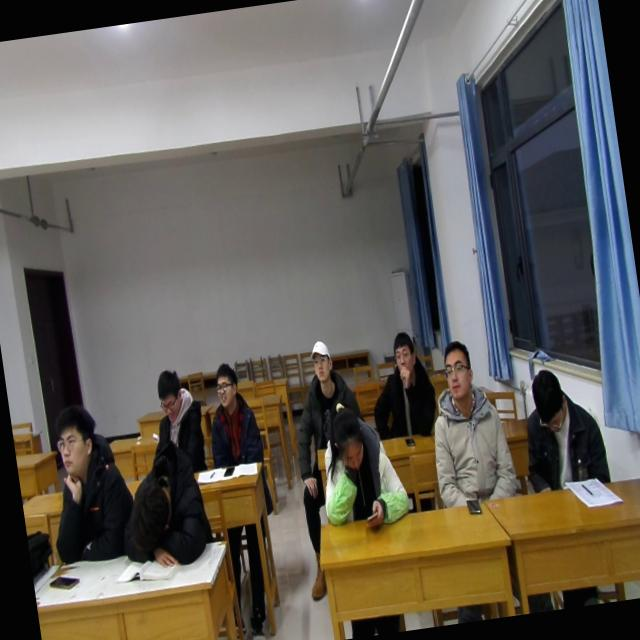bow: (107, 422, 220, 576), (310, 387, 414, 536)
down: (321, 398, 370, 480), (526, 363, 569, 435), (147, 364, 189, 424)
lookup: (48, 396, 106, 486), (434, 333, 476, 405), (383, 325, 422, 381), (208, 356, 244, 412), (304, 336, 336, 386)
sit: (416, 329, 524, 513), (35, 394, 143, 574), (512, 356, 614, 498), (360, 322, 445, 448), (282, 332, 364, 453), (138, 362, 214, 482), (195, 358, 267, 470)
